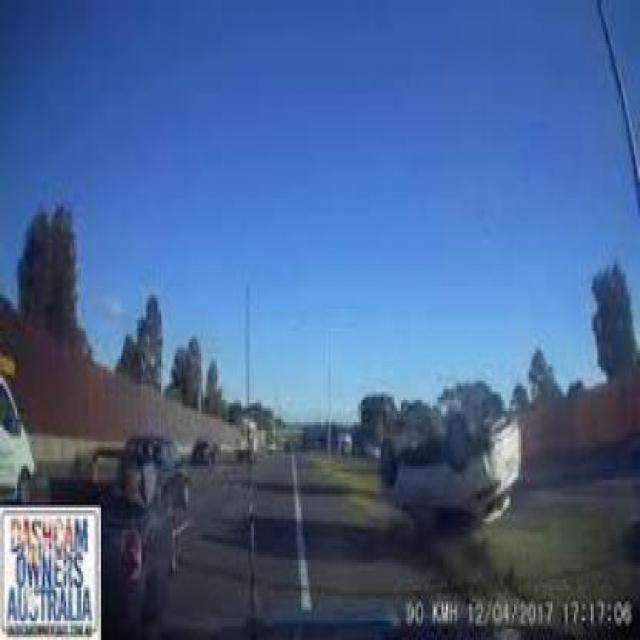accident: (367, 376, 522, 540)
